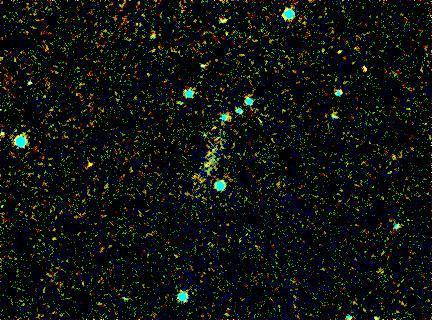star: (352, 52, 382, 82)
